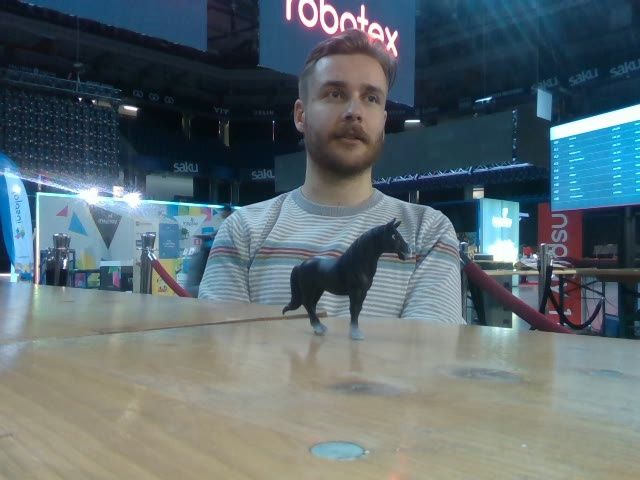toy: (283, 218, 412, 341)
